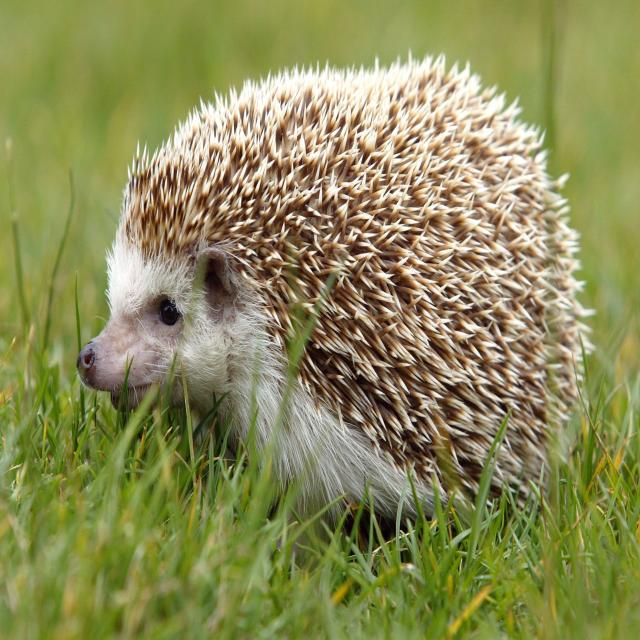Hedgehog: (81, 58, 588, 516)
